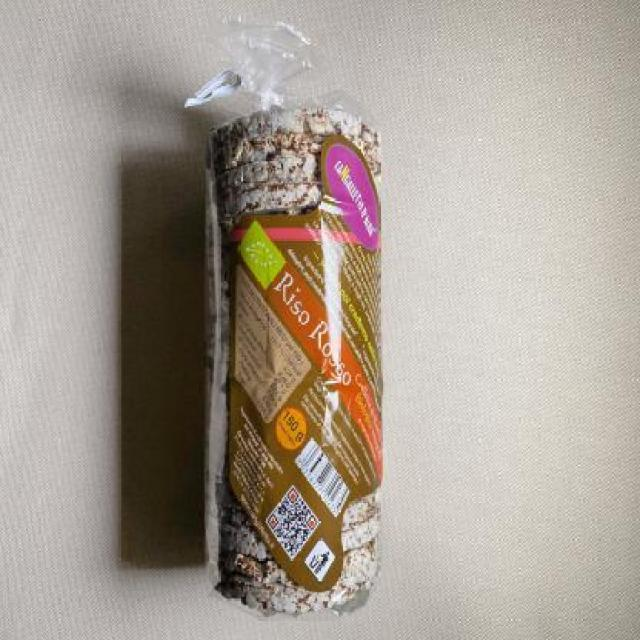Gallette di riso: (190, 57, 388, 626)
